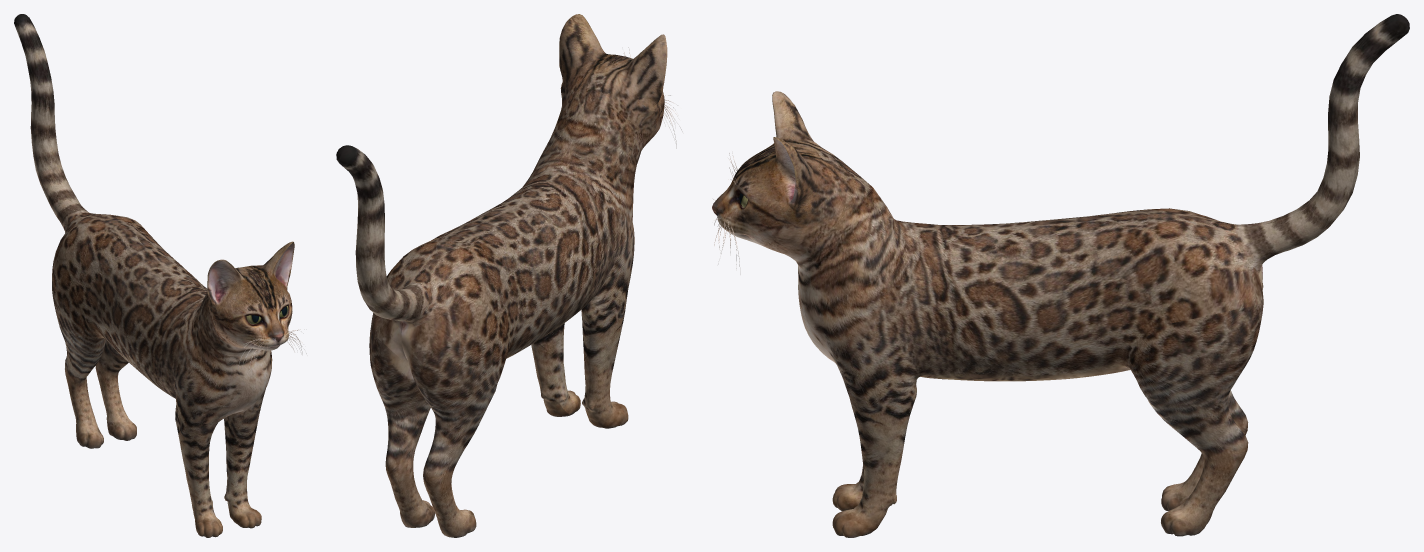
File: bengal_rest.glb
3 renders of one model, left to right at view 1: azimuth 30°, elevation 25°; view 2: azimuth 150°, elevation 25°; view 3: azimuth 270°, elevation 25°, orthographic. The views are drawn at different scales.
Parts seen in each view (by area): view 1: Bengal; view 2: Bengal; view 3: Bengal.
Boxes of the visible parts, x1,y1,x2,y2 form: Bengal: [14, 14, 307, 537]; Bengal: [336, 14, 683, 537]; Bengal: [712, 14, 1409, 537].
Bounding box in the file's own units: 0.117 × 0.4684 × 0.5904.
1 material, 1 textured.
